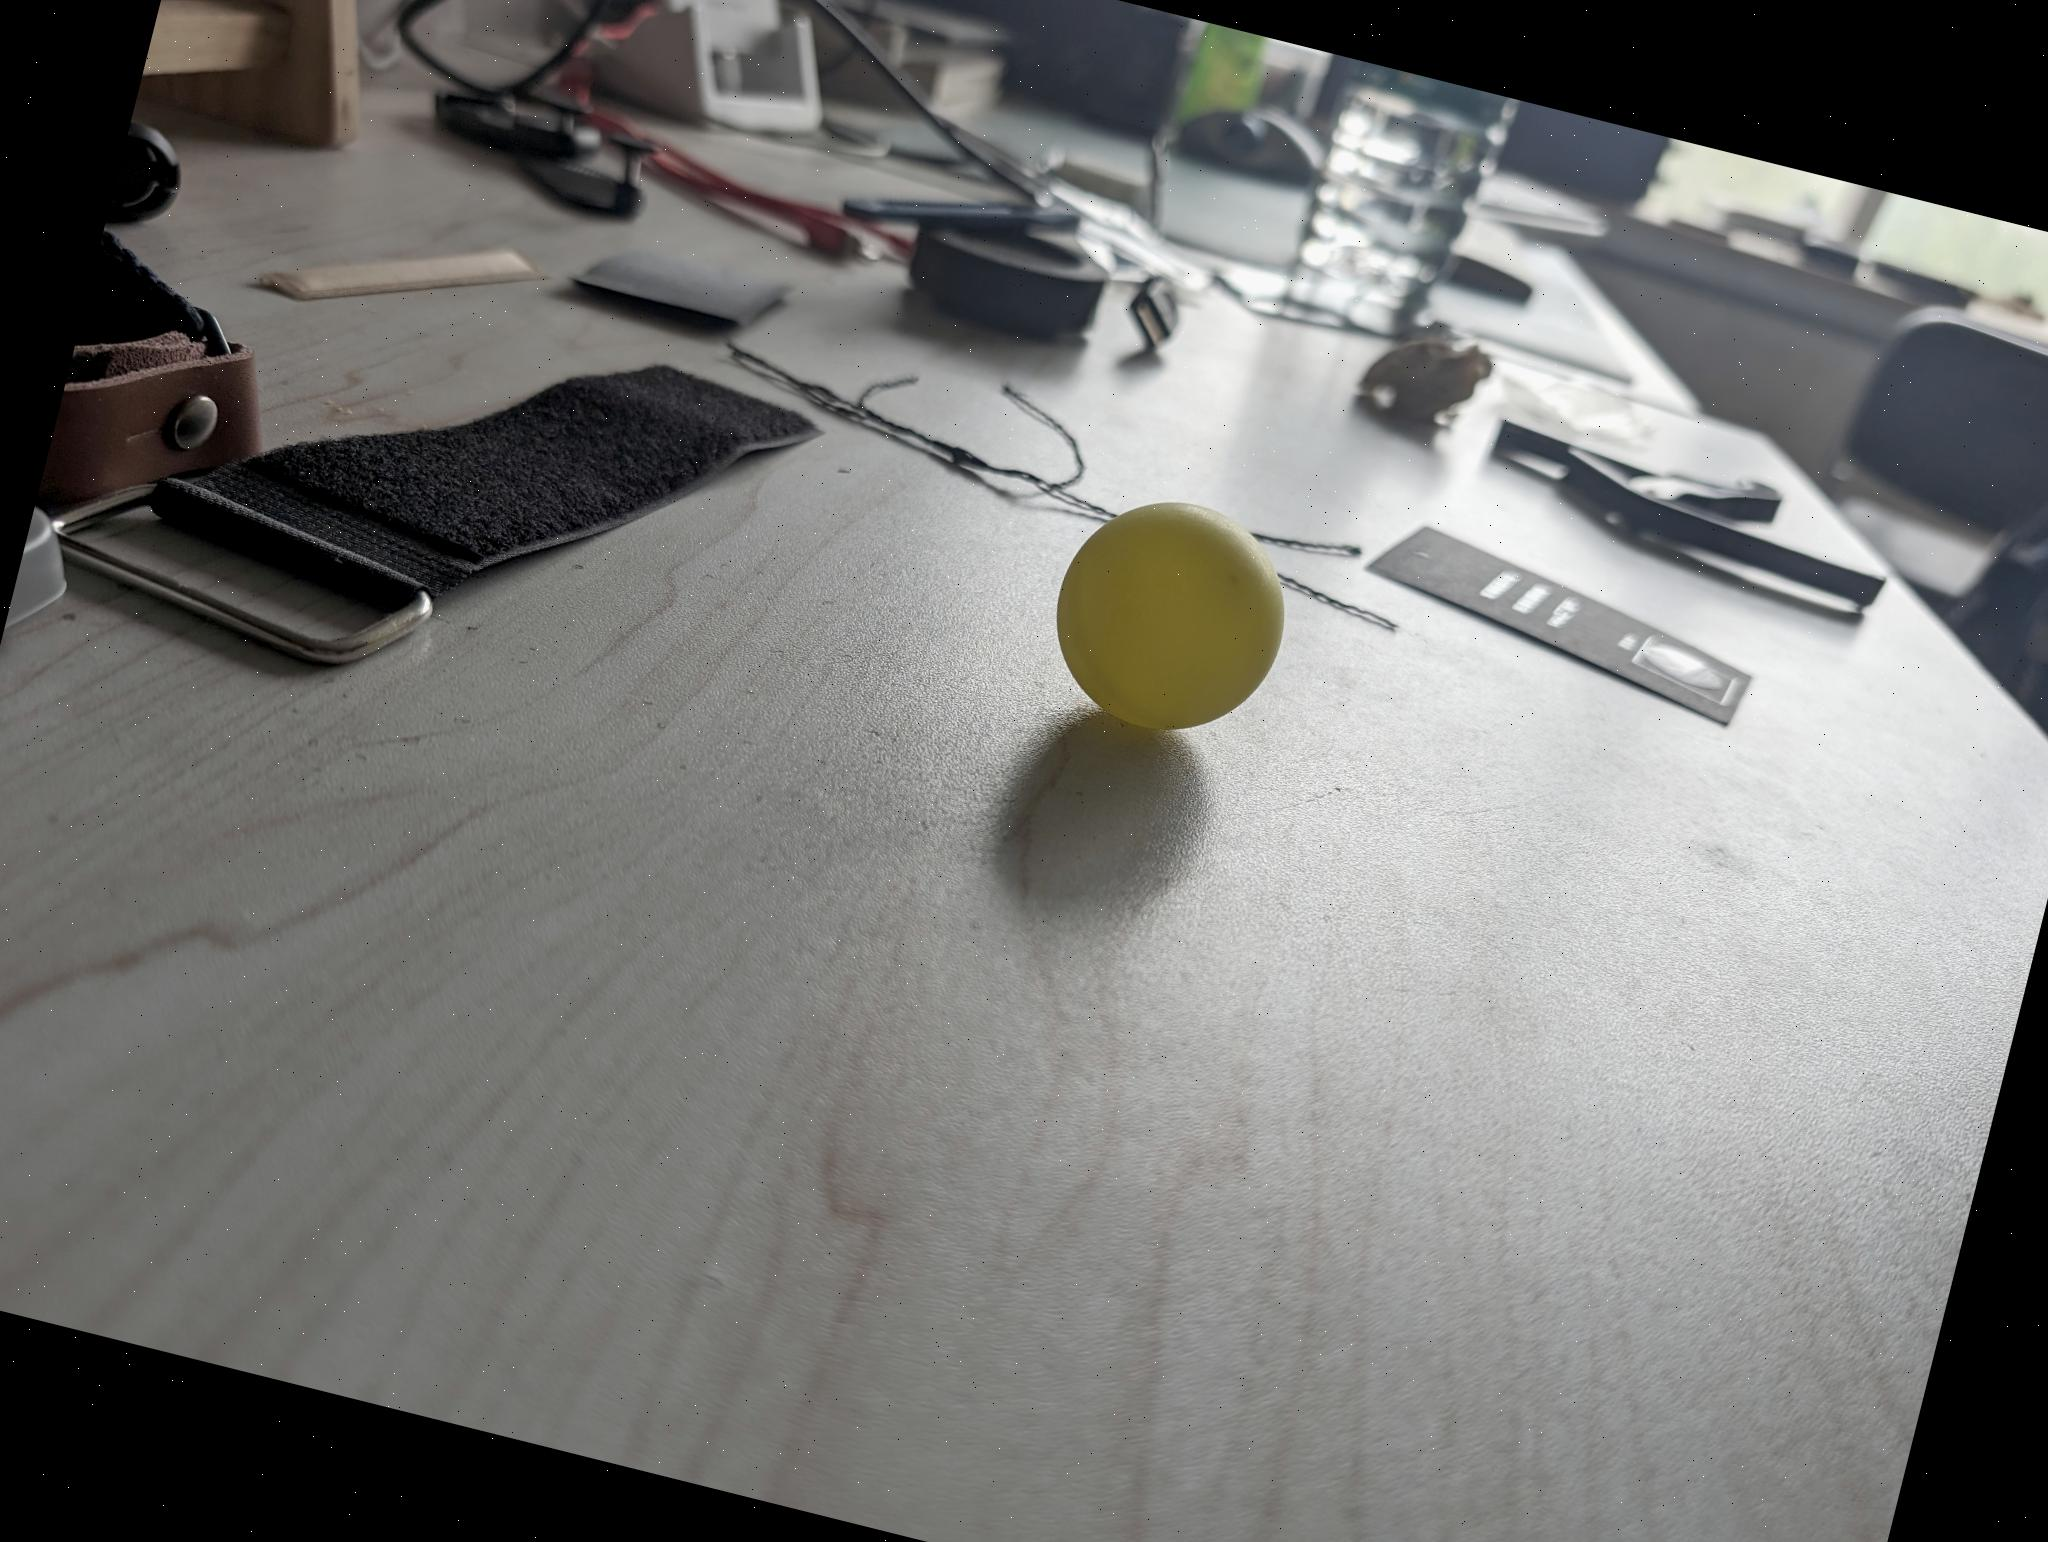ball: (1031, 476, 1310, 756)
